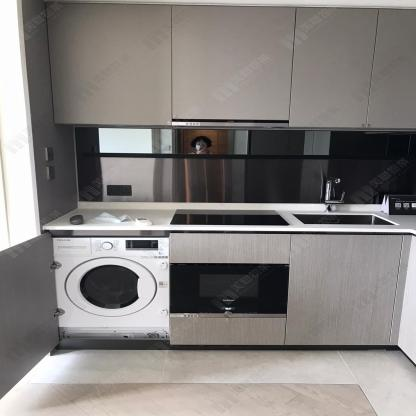Cupboard: (290, 7, 416, 130)
Exhaust Hood: (171, 117, 289, 130)
Faucet: (321, 176, 347, 213)
Oven: (169, 262, 290, 319)
Sink: (288, 212, 410, 227)
Stove: (169, 208, 290, 226)
Washing Machine: (51, 236, 170, 341)
